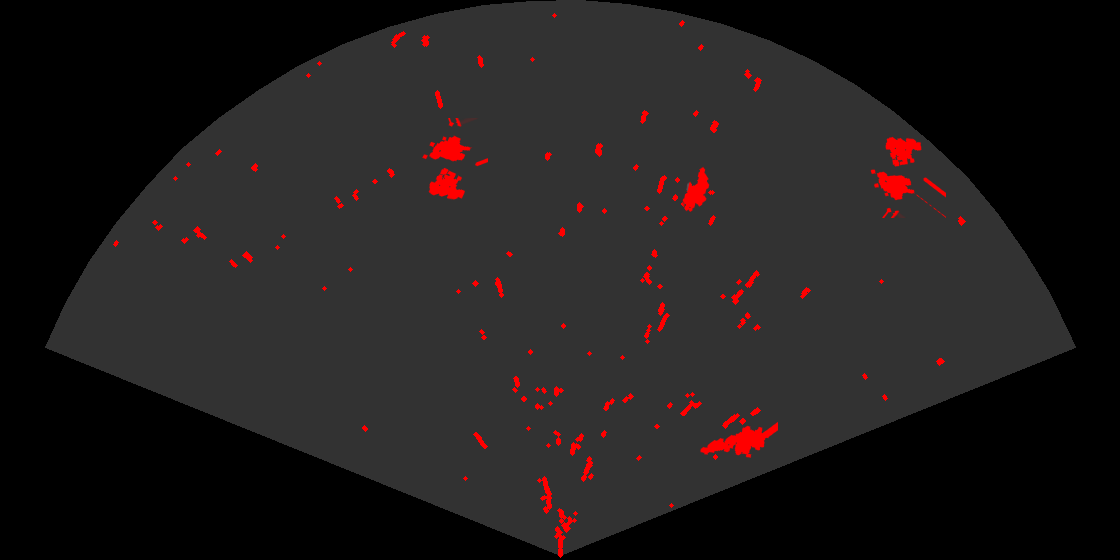AUV: (681, 165, 711, 214)
cage: (869, 135, 946, 218), (421, 118, 488, 201)
frogman: (699, 420, 778, 459)
